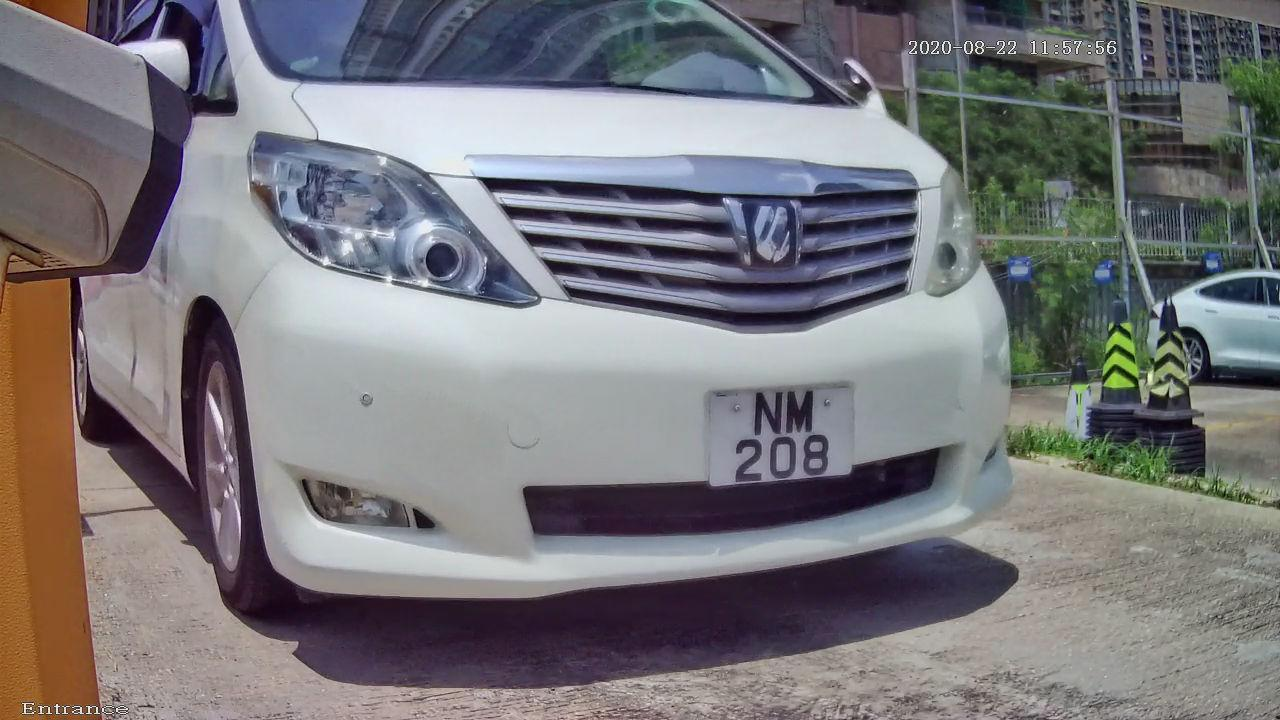Car: (46, 1, 1086, 663)
License Plate: (686, 364, 869, 502)
